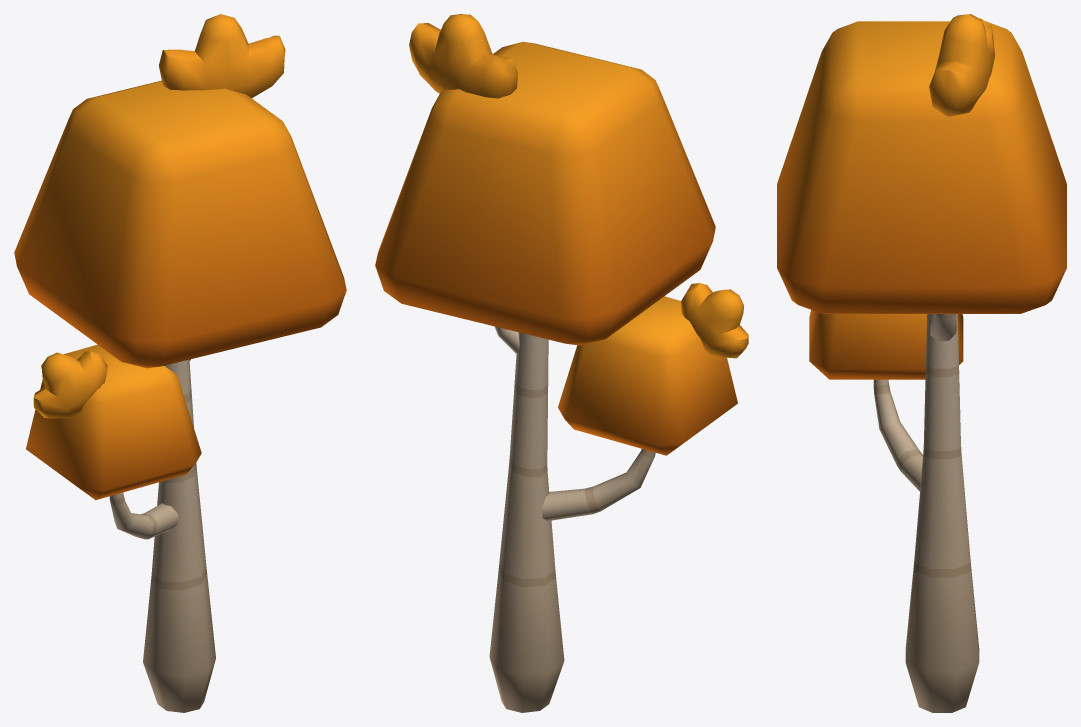
The model's file is Tree_6_A_Color6.fbx.
3 renders of one model, left to right at view 1: azimuth 30°, elevation 25°; view 2: azimuth 150°, elevation 25°; view 3: azimuth 270°, elevation 25°, orthographic. The views are drawn at different scales.
Parts seen in each view (by area): view 1: Tree_6_A_Color6; view 2: Tree_6_A_Color6; view 3: Tree_6_A_Color6.
Part boxes in pixels (x1,y1,x2,y2): Tree_6_A_Color6: (14,14,346,712); Tree_6_A_Color6: (375,14,748,712); Tree_6_A_Color6: (777,14,1066,712).
Bounding box in the file's own units: 2.09 × 4.67 × 1.7.
